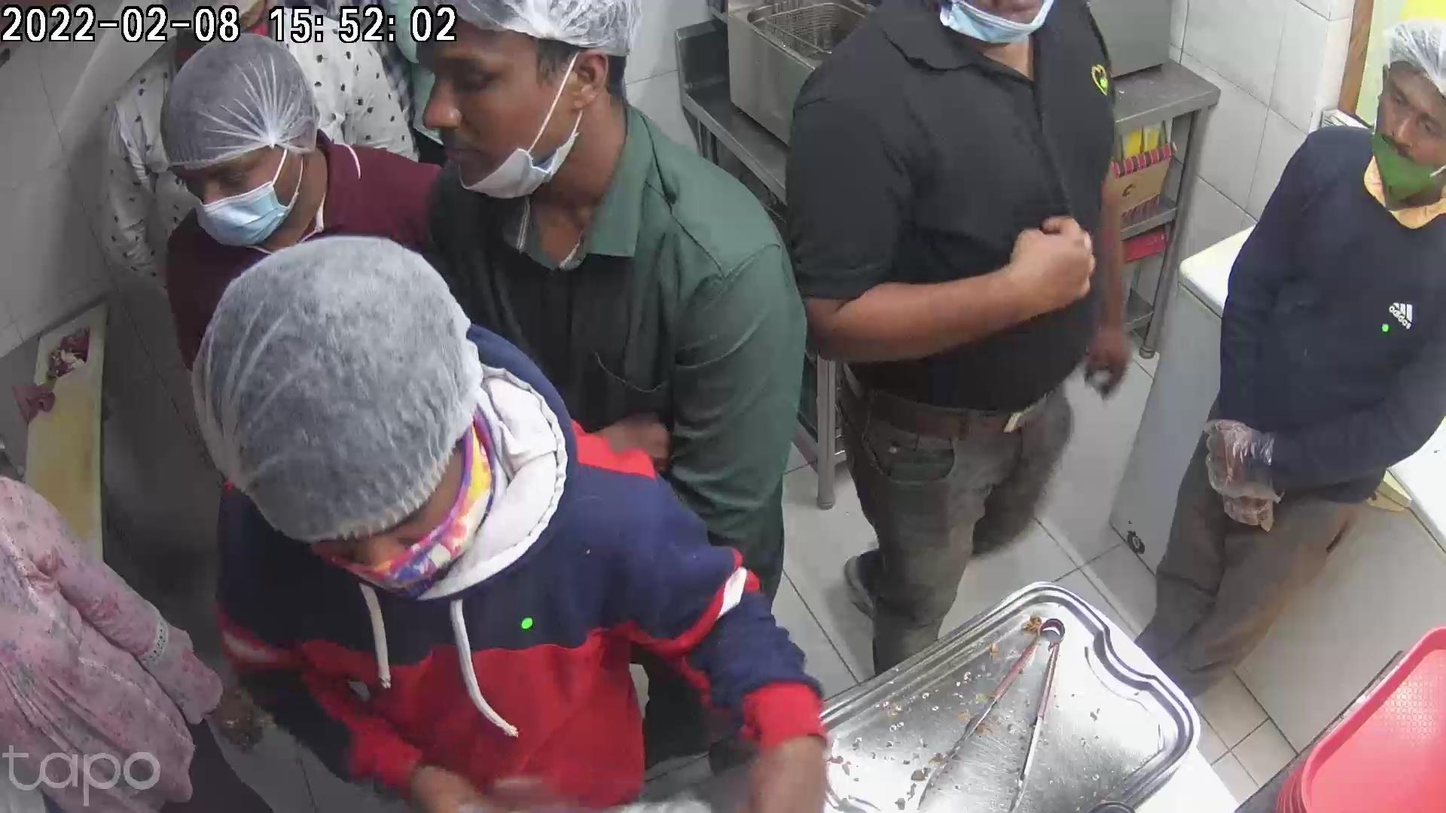no_gloves: (1006, 210, 1089, 322)
